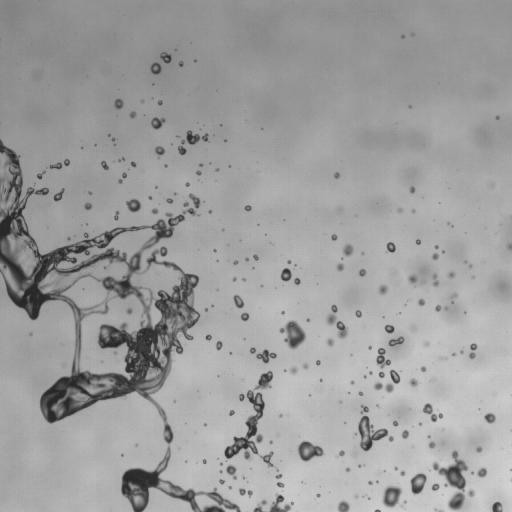droplet: (278, 320, 306, 349), (382, 485, 407, 509), (296, 440, 324, 461), (409, 472, 427, 495), (125, 198, 141, 212), (341, 243, 353, 260), (150, 117, 165, 129), (226, 463, 237, 479), (470, 467, 487, 477), (280, 267, 292, 281), (232, 294, 244, 308), (283, 365, 298, 375), (154, 146, 165, 159), (407, 274, 418, 287), (337, 500, 350, 511), (150, 62, 161, 74), (484, 412, 496, 423), (489, 501, 502, 511), (160, 52, 171, 63), (165, 145, 176, 156), (109, 164, 120, 175), (0, 200, 11, 211), (140, 200, 151, 211), (158, 202, 169, 213), (170, 204, 181, 215), (128, 211, 139, 222), (172, 223, 183, 234), (91, 227, 102, 238), (72, 232, 83, 243), (333, 239, 344, 250), (454, 264, 465, 275), (233, 265, 244, 276), (412, 287, 423, 298), (39, 301, 50, 312), (16, 307, 27, 318), (257, 362, 268, 373), (260, 387, 271, 398), (128, 390, 139, 401), (244, 404, 255, 415), (34, 411, 45, 422), (370, 419, 381, 430), (236, 425, 247, 436), (256, 442, 267, 453), (428, 450, 439, 461), (232, 452, 243, 463), (442, 456, 453, 467), (207, 459, 218, 470), (467, 460, 478, 471), (143, 461, 154, 472), (400, 482, 411, 493), (217, 485, 228, 496), (229, 492, 240, 503), (247, 496, 258, 507), (438, 497, 449, 508), (385, 242, 395, 253), (378, 284, 388, 295), (408, 378, 419, 388), (114, 98, 123, 109), (384, 324, 395, 333), (449, 291, 457, 303), (240, 312, 249, 321), (401, 429, 410, 438), (121, 104, 130, 113), (187, 173, 196, 182), (34, 180, 43, 189), (138, 196, 147, 205), (119, 204, 128, 213), (148, 215, 157, 224), (116, 218, 125, 227), (158, 237, 167, 246), (57, 238, 66, 247), (141, 249, 150, 258), (342, 255, 351, 264), (437, 273, 446, 282), (425, 300, 434, 309), (334, 311, 343, 320), (297, 319, 306, 328), (329, 325, 338, 334), (175, 332, 184, 341), (297, 341, 306, 350), (371, 363, 380, 372), (62, 368, 71, 377), (413, 370, 422, 379), (399, 374, 408, 383), (382, 375, 391, 384), (42, 380, 51, 389), (350, 384, 359, 393), (113, 395, 122, 404), (255, 419, 264, 428), (156, 428, 165, 437), (129, 460, 138, 469), (437, 474, 446, 483), (233, 479, 242, 488), (422, 482, 431, 491), (448, 485, 457, 494), (375, 490, 384, 499), (119, 495, 128, 504), (462, 495, 471, 504), (326, 337, 334, 347), (37, 170, 45, 179), (409, 324, 417, 333), (431, 482, 439, 491), (467, 488, 475, 497), (101, 160, 108, 170), (241, 505, 252, 511), (381, 505, 392, 511), (499, 505, 510, 511), (84, 202, 92, 210), (431, 252, 439, 260), (336, 263, 344, 271), (358, 268, 366, 276), (447, 270, 455, 278), (417, 298, 425, 306), (215, 341, 222, 350), (261, 504, 270, 511), (0, 151, 5, 162), (0, 163, 5, 174), (0, 283, 5, 294), (129, 111, 136, 118), (333, 172, 340, 179), (151, 207, 158, 214), (126, 307, 133, 314), (204, 334, 211, 341), (422, 340, 429, 347), (428, 441, 435, 448), (156, 57, 163, 64), (173, 139, 180, 146), (182, 141, 189, 148), (17, 156, 24, 163), (20, 185, 27, 192), (46, 191, 53, 198), (85, 195, 92, 202), (187, 200, 194, 207), (149, 201, 156, 208), (403, 206, 410, 213), (183, 212, 190, 219), (123, 221, 130, 228), (38, 247, 45, 254), (351, 248, 358, 255), (336, 249, 343, 256), (155, 254, 162, 261), (163, 254, 170, 261), (238, 258, 245, 265), (139, 259, 146, 266), (183, 266, 190, 273), (379, 278, 386, 285), (402, 278, 409, 285), (372, 285, 379, 292), (384, 290, 391, 297), (7, 300, 14, 307), (64, 305, 71, 312), (239, 306, 246, 313), (279, 320, 286, 327), (68, 323, 75, 330), (185, 327, 192, 334), (280, 331, 287, 338), (390, 331, 397, 338), (69, 332, 76, 339), (209, 338, 216, 345), (381, 341, 388, 348), (68, 343, 75, 350), (255, 346, 262, 353), (464, 346, 471, 353), (295, 361, 302, 368), (382, 365, 389, 372), (296, 366, 303, 373), (163, 377, 170, 384), (379, 387, 386, 394), (33, 397, 40, 404), (106, 397, 113, 404), (95, 399, 102, 406), (159, 401, 166, 408), (150, 406, 157, 413), (431, 407, 438, 414), (72, 411, 79, 418), (63, 415, 70, 422), (166, 418, 173, 425), (53, 419, 60, 426), (261, 436, 268, 443), (227, 438, 234, 445), (311, 439, 318, 446), (218, 452, 225, 459), (310, 455, 317, 462), (350, 464, 357, 471), (117, 469, 124, 476), (460, 469, 467, 476), (221, 471, 228, 478), (407, 471, 414, 478), (158, 472, 165, 479), (115, 479, 122, 486), (390, 480, 397, 487), (463, 483, 470, 490), (181, 484, 188, 491), (147, 486, 154, 493), (276, 487, 283, 494), (397, 494, 404, 501), (345, 497, 352, 504), (183, 500, 190, 507), (277, 501, 284, 508), (331, 233, 337, 241), (294, 277, 300, 285), (330, 506, 339, 511), (455, 506, 464, 511), (118, 156, 125, 162), (488, 181, 495, 187), (409, 186, 415, 193), (244, 205, 251, 211), (355, 310, 361, 317), (302, 362, 308, 369), (228, 409, 235, 415), (459, 346, 464, 354), (130, 161, 136, 167), (397, 207, 403, 213), (252, 254, 258, 260), (420, 366, 426, 372), (392, 420, 398, 426), (476, 446, 482, 452), (166, 198, 173, 203), (506, 243, 511, 250), (429, 377, 436, 382), (218, 479, 225, 484), (195, 170, 201, 175), (400, 470, 405, 476), (416, 238, 420, 245), (127, 507, 134, 511), (223, 507, 230, 511), (347, 507, 354, 511), (447, 507, 454, 511), (178, 61, 183, 66), (157, 100, 162, 105), (233, 260, 238, 265), (420, 279, 425, 284), (358, 391, 363, 396), (277, 412, 282, 417), (345, 467, 350, 472), (368, 480, 373, 485), (354, 494, 359, 499), (404, 32, 409, 37), (148, 59, 153, 64), (156, 72, 161, 77), (153, 73, 158, 78), (115, 93, 120, 98), (118, 94, 123, 99), (152, 99, 157, 104), (109, 100, 114, 105), (110, 104, 115, 109), (115, 108, 120, 113), (135, 111, 140, 116), (125, 114, 130, 119), (148, 114, 153, 119), (156, 114, 161, 119), (133, 115, 138, 120), (160, 122, 165, 127), (157, 126, 162, 131), (198, 131, 203, 136), (181, 134, 186, 139), (207, 135, 212, 140), (198, 138, 203, 143), (2, 141, 7, 146), (154, 141, 159, 146), (162, 144, 167, 149), (150, 148, 155, 153), (14, 150, 19, 155), (153, 152, 158, 157), (183, 152, 188, 157), (159, 153, 164, 158), (133, 158, 138, 163), (51, 159, 56, 164), (105, 160, 110, 165), (202, 160, 207, 165), (18, 161, 23, 166), (198, 166, 203, 171), (329, 170, 334, 175), (338, 170, 343, 175), (329, 174, 334, 179), (338, 174, 343, 179), (33, 185, 38, 190), (405, 185, 410, 190), (55, 187, 60, 192), (414, 187, 419, 192), (30, 192, 35, 197), (193, 192, 198, 197), (38, 193, 43, 198), (18, 194, 23, 199), (170, 194, 175, 199), (126, 195, 131, 200), (137, 197, 142, 202), (198, 202, 203, 207), (79, 203, 84, 208), (183, 205, 188, 210), (82, 208, 87, 213), (87, 208, 92, 213), (137, 208, 142, 213), (20, 209, 25, 214), (128, 210, 133, 215), (133, 210, 138, 215), (171, 212, 176, 217), (163, 216, 168, 221), (178, 220, 183, 225), (133, 221, 138, 226), (106, 226, 111, 231), (28, 230, 33, 235), (33, 236, 38, 241), (394, 245, 399, 250), (435, 248, 440, 253), (506, 248, 511, 253), (252, 249, 257, 254), (427, 252, 432, 257), (248, 255, 253, 260), (430, 258, 435, 263), (434, 258, 439, 263), (467, 258, 472, 263), (174, 260, 179, 265), (463, 263, 468, 268), (286, 264, 291, 269), (332, 264, 337, 269), (361, 264, 366, 269), (342, 265, 347, 270), (356, 265, 361, 270), (447, 266, 452, 271), (277, 268, 282, 273), (337, 270, 342, 275), (407, 270, 412, 275), (364, 271, 369, 276), (354, 272, 359, 277), (454, 272, 459, 277), (435, 275, 440, 280), (236, 276, 241, 281), (289, 276, 294, 281), (451, 276, 456, 281), (429, 278, 434, 283), (280, 279, 285, 284), (415, 279, 420, 284), (196, 281, 201, 286), (437, 282, 442, 287), (431, 285, 436, 290), (192, 286, 197, 291), (2, 289, 7, 294), (448, 289, 453, 294), (423, 297, 428, 302), (413, 298, 418, 303), (230, 301, 235, 306), (439, 302, 444, 307), (446, 302, 451, 307), (205, 303, 210, 308), (192, 304, 197, 309), (416, 304, 421, 309), (420, 304, 425, 309), (336, 305, 341, 310), (207, 306, 212, 311), (439, 307, 444, 312), (327, 308, 332, 313), (388, 320, 393, 325), (343, 321, 348, 326), (193, 322, 198, 327), (274, 328, 279, 333), (322, 341, 327, 346), (267, 348, 272, 353), (454, 348, 459, 353), (251, 352, 256, 357), (383, 354, 388, 359), (257, 358, 262, 363), (419, 361, 424, 366), (67, 362, 72, 367), (416, 363, 421, 368), (262, 368, 267, 373), (416, 368, 421, 373), (363, 369, 368, 374), (285, 370, 290, 375), (255, 374, 260, 379), (268, 379, 273, 384), (398, 379, 403, 384), (406, 383, 411, 388), (416, 383, 421, 388), (256, 387, 261, 392), (252, 389, 257, 394), (387, 391, 392, 396), (149, 392, 154, 397), (234, 394, 239, 399), (261, 395, 266, 400), (243, 396, 248, 401), (427, 399, 432, 404), (248, 402, 253, 407), (419, 403, 424, 408), (81, 407, 86, 412), (163, 407, 168, 412), (261, 408, 266, 413), (483, 409, 488, 414), (164, 410, 169, 415), (251, 410, 256, 415), (363, 411, 368, 416), (357, 413, 362, 418), (425, 413, 430, 418), (494, 414, 499, 419), (242, 416, 247, 421), (481, 418, 486, 423), (368, 419, 373, 424), (429, 420, 434, 425), (490, 421, 495, 426), (159, 425, 164, 430), (170, 426, 175, 431), (353, 426, 358, 431), (255, 429, 260, 434), (386, 431, 391, 436), (172, 432, 177, 437), (355, 433, 360, 438), (407, 433, 412, 438), (383, 435, 388, 440), (171, 436, 176, 441), (303, 436, 308, 441), (429, 436, 434, 441), (402, 437, 407, 442), (425, 438, 430, 443), (296, 439, 301, 444), (162, 440, 167, 445), (169, 440, 174, 445), (254, 442, 259, 447), (474, 442, 479, 447), (433, 444, 438, 449), (220, 446, 225, 451), (425, 446, 430, 451), (471, 446, 476, 451), (239, 447, 244, 452), (430, 447, 435, 452), (334, 449, 339, 454), (219, 450, 224, 455), (479, 450, 484, 455), (343, 451, 348, 456), (475, 451, 480, 456), (295, 454, 300, 459), (456, 454, 461, 459), (158, 455, 163, 460), (269, 457, 274, 462), (243, 458, 248, 463), (167, 459, 172, 464), (464, 460, 469, 465), (262, 461, 267, 466), (481, 463, 486, 468), (428, 464, 433, 469), (221, 465, 226, 470), (397, 466, 402, 471), (417, 468, 422, 473), (473, 468, 478, 473), (395, 469, 400, 474), (233, 470, 238, 475), (423, 470, 428, 475), (485, 470, 490, 475), (479, 476, 484, 481), (277, 477, 282, 482), (172, 480, 177, 485), (223, 481, 228, 486), (193, 487, 198, 492), (208, 487, 213, 492), (433, 489, 438, 494), (473, 489, 478, 494), (357, 490, 362, 495), (415, 492, 420, 497), (167, 495, 172, 500), (271, 496, 276, 501), (489, 499, 494, 504), (251, 503, 256, 508), (238, 504, 243, 509), (122, 172, 126, 178), (0, 214, 3, 221), (0, 261, 3, 268), (400, 34, 405, 38), (198, 163, 203, 167), (118, 178, 122, 183), (185, 182, 190, 186), (148, 195, 152, 200), (411, 208, 415, 213), (67, 236, 71, 241), (244, 257, 249, 261), (468, 263, 472, 268), (232, 276, 236, 281), (241, 277, 246, 281), (281, 310, 285, 315), (368, 345, 372, 350), (451, 352, 456, 356), (316, 360, 320, 365), (350, 380, 354, 385), (316, 493, 321, 497), (411, 32, 415, 36), (140, 99, 144, 103), (495, 115, 499, 119), (88, 191, 92, 195), (208, 209, 212, 213), (434, 245, 438, 249), (463, 260, 467, 264), (293, 264, 297, 268), (471, 275, 475, 279), (306, 318, 310, 322), (376, 404, 380, 408), (418, 422, 422, 426), (269, 440, 273, 444), (134, 443, 138, 447), (202, 459, 206, 463), (394, 466, 398, 470), (228, 485, 232, 489), (214, 168, 219, 171), (173, 192, 178, 195), (286, 260, 291, 263), (204, 307, 207, 312), (319, 378, 322, 383), (508, 238, 511, 243), (142, 508, 147, 511), (188, 508, 193, 511), (487, 508, 492, 511), (193, 59, 197, 62), (408, 104, 411, 108), (107, 133, 110, 137), (213, 248, 216, 252), (361, 251, 364, 255), (441, 250, 445, 253), (403, 303, 407, 306), (349, 353, 353, 356), (369, 371, 372, 375), (363, 374, 366, 378), (203, 423, 207, 426), (219, 462, 223, 465), (219, 469, 222, 473), (396, 312, 401, 314), (0, 187, 2, 192), (224, 139, 227, 142), (80, 146, 83, 149), (164, 164, 167, 167), (228, 164, 231, 167), (221, 228, 224, 231), (216, 259, 219, 262), (260, 284, 263, 287), (211, 304, 214, 307), (29, 332, 32, 335), (229, 351, 232, 354), (100, 360, 103, 363), (241, 378, 244, 381), (347, 391, 350, 394), (339, 400, 342, 403), (441, 428, 444, 431), (427, 435, 430, 438), (184, 460, 187, 463), (375, 480, 378, 483), (398, 33, 401, 36), (402, 37, 405, 40), (166, 51, 169, 54), (170, 55, 173, 58), (192, 56, 195, 59), (192, 61, 195, 64), (148, 63, 151, 66), (182, 63, 185, 66), (176, 64, 179, 67), (148, 82, 151, 85), (161, 100, 164, 103), (155, 103, 158, 106), (159, 104, 162, 107), (411, 104, 414, 107), (406, 107, 409, 110), (495, 112, 498, 115), (492, 115, 495, 118), (498, 116, 501, 119), (164, 118, 167, 121), (495, 119, 498, 122), (219, 120, 222, 123), (222, 123, 225, 126), (260, 124, 263, 127), (217, 125, 220, 128), (104, 133, 107, 136), (108, 136, 111, 139), (224, 136, 227, 139), (220, 138, 223, 141), (93, 140, 96, 143), (113, 140, 116, 143), (204, 140, 207, 143), (223, 141, 226, 144), (178, 142, 181, 145), (79, 143, 82, 146), (96, 143, 99, 146), (82, 144, 85, 147), (77, 146, 80, 149), (82, 147, 85, 150), (175, 149, 178, 152), (118, 155, 121, 158), (123, 155, 126, 158), (67, 156, 70, 159), (99, 158, 102, 161), (114, 158, 117, 161), (131, 158, 134, 161), (120, 159, 123, 162), (199, 160, 202, 163), (165, 161, 168, 164), (68, 162, 71, 165), (61, 163, 64, 166), (135, 163, 138, 166), (225, 163, 228, 166), (46, 164, 49, 167), (167, 164, 170, 167), (215, 164, 218, 167), (130, 165, 133, 168), (161, 165, 164, 168), (100, 166, 103, 169), (52, 167, 55, 170), (164, 167, 167, 170), (227, 167, 230, 170), (38, 170, 41, 173), (215, 170, 218, 173), (41, 174, 44, 177), (126, 174, 129, 177), (196, 174, 199, 177), (35, 177, 38, 180), (121, 177, 124, 180), (115, 179, 118, 182), (184, 179, 187, 182), (188, 180, 191, 183), (155, 182, 158, 185), (182, 183, 185, 186), (151, 185, 154, 188), (187, 185, 190, 188), (88, 188, 91, 191), (154, 188, 157, 191), (174, 189, 177, 192), (409, 192, 412, 195), (86, 193, 89, 196), (151, 195, 154, 198), (26, 197, 29, 200), (57, 199, 60, 202), (199, 199, 202, 202), (172, 200, 175, 203), (25, 202, 28, 205), (166, 202, 169, 205), (244, 202, 247, 205), (248, 202, 251, 205), (250, 205, 253, 208), (414, 207, 417, 210), (408, 208, 411, 211), (243, 209, 246, 212), (247, 210, 250, 213), (210, 211, 213, 214), (112, 212, 115, 215), (117, 213, 120, 216), (111, 217, 114, 220), (256, 220, 259, 223), (87, 221, 90, 224), (450, 221, 453, 224), (82, 223, 85, 226), (253, 223, 256, 226), (258, 224, 261, 227), (447, 224, 450, 227), (453, 224, 456, 227), (85, 229, 88, 232), (261, 233, 264, 236), (266, 233, 269, 236), (87, 236, 90, 239), (328, 236, 331, 239), (336, 236, 339, 239), (414, 236, 417, 239), (418, 236, 421, 239), (334, 239, 337, 242), (390, 239, 393, 242), (385, 240, 388, 243), (412, 240, 415, 243), (420, 240, 423, 243), (434, 241, 437, 244), (393, 242, 396, 245), (418, 243, 421, 246), (215, 247, 218, 250), (384, 247, 387, 250), (444, 250, 447, 253), (211, 251, 214, 254), (388, 251, 391, 254), (257, 254, 260, 257), (285, 257, 288, 260), (218, 259, 221, 262), (230, 259, 233, 262), (256, 259, 259, 262), (460, 259, 463, 262), (339, 260, 342, 263), (215, 261, 218, 264), (235, 263, 238, 266), (248, 265, 251, 268), (251, 268, 254, 271), (230, 275, 233, 278), (244, 275, 247, 278), (358, 275, 361, 278), (361, 275, 364, 278), (298, 276, 301, 279), (245, 279, 248, 282), (299, 279, 302, 282), (260, 281, 263, 284), (298, 282, 301, 285), (293, 283, 296, 286), (263, 284, 266, 287), (260, 286, 263, 289), (448, 298, 451, 301), (242, 299, 245, 302), (403, 300, 406, 303), (211, 301, 214, 304), (331, 301, 334, 304), (406, 301, 409, 304), (450, 303, 453, 306), (432, 305, 435, 308), (397, 308, 400, 311), (464, 308, 467, 311), (278, 309, 281, 312), (284, 310, 287, 313), (434, 310, 437, 313), (460, 310, 463, 313), (360, 311, 363, 314), (381, 312, 384, 315), (400, 312, 403, 315), (465, 312, 468, 315), (248, 313, 251, 316), (279, 313, 282, 316), (397, 313, 400, 316), (353, 314, 356, 317), (247, 317, 250, 320), (309, 318, 312, 321), (240, 319, 243, 322), (382, 323, 385, 326), (393, 327, 396, 330), (383, 330, 386, 333), (206, 331, 209, 334), (403, 336, 406, 339), (205, 339, 208, 342), (221, 341, 224, 344), (468, 341, 471, 344), (475, 342, 478, 345), (395, 343, 398, 346), (251, 344, 254, 347), (365, 344, 368, 347), (220, 346, 223, 349), (247, 346, 250, 349), (228, 348, 231, 351), (231, 350, 234, 353), (450, 350, 453, 353), (247, 351, 250, 354), (226, 352, 229, 355), (346, 353, 349, 356), (229, 354, 232, 357), (451, 355, 454, 358), (314, 357, 317, 360), (472, 357, 475, 360), (319, 359, 322, 362), (373, 360, 376, 363), (312, 361, 315, 364), (317, 364, 320, 367), (425, 367, 428, 370), (280, 368, 283, 371), (396, 370, 399, 373), (422, 371, 425, 374), (360, 375, 363, 378), (351, 377, 354, 380), (322, 378, 325, 381), (316, 379, 319, 382), (347, 380, 350, 383), (347, 388, 350, 391), (360, 388, 363, 391), (309, 391, 312, 394), (344, 391, 347, 394), (355, 391, 358, 394), (348, 393, 351, 396), (357, 394, 360, 397), (307, 396, 310, 399), (236, 398, 239, 401), (175, 400, 178, 403), (375, 400, 378, 403), (378, 403, 381, 406), (477, 404, 480, 407), (230, 406, 233, 409), (233, 408, 236, 411), (226, 410, 229, 413), (276, 411, 279, 414), (281, 411, 284, 414), (231, 413, 234, 416), (442, 413, 445, 416), (282, 414, 285, 417), (279, 417, 282, 420), (344, 418, 347, 421), (396, 419, 399, 422), (204, 420, 207, 423), (340, 421, 343, 424), (200, 422, 203, 425), (343, 423, 346, 426), (415, 423, 418, 426), (406, 428, 409, 431), (425, 432, 428, 435), (272, 439, 275, 442), (342, 448, 345, 451), (360, 448, 363, 451), (272, 449, 275, 452), (122, 452, 125, 455), (117, 453, 120, 456), (338, 455, 341, 458), (182, 457, 185, 460), (260, 458, 263, 461), (186, 459, 189, 462), (199, 459, 202, 462), (205, 459, 208, 462), (359, 461, 362, 464), (183, 462, 186, 465), (202, 463, 205, 466), (345, 464, 348, 467), (360, 465, 363, 468), (355, 466, 358, 469), (391, 466, 394, 469), (380, 467, 383, 470), (216, 470, 219, 473), (347, 470, 350, 473), (276, 471, 279, 474), (381, 471, 384, 474), (243, 473, 246, 476), (243, 478, 246, 481), (302, 479, 305, 482), (297, 480, 300, 483), (372, 480, 375, 483), (300, 482, 303, 485), (365, 482, 368, 485), (283, 484, 286, 487), (368, 484, 371, 487), (236, 490, 239, 493), (316, 490, 319, 493), (367, 493, 370, 496), (250, 494, 253, 497), (358, 495, 361, 498), (364, 495, 367, 498), (315, 496, 318, 499), (293, 501, 296, 504), (403, 503, 406, 506), (436, 506, 439, 509), (176, 135, 180, 137), (174, 48, 177, 50), (219, 124, 222, 126), (155, 185, 157, 188), (85, 223, 88, 225), (257, 223, 259, 226), (252, 266, 254, 269), (216, 288, 218, 291), (464, 311, 466, 314), (243, 337, 245, 340), (399, 370, 402, 372), (217, 374, 219, 377), (308, 394, 311, 396), (286, 414, 289, 416), (121, 453, 123, 456), (249, 467, 252, 469), (509, 468, 511, 471), (509, 465, 511, 468), (509, 470, 511, 473), (431, 509, 434, 511), (152, 83, 154, 85), (151, 97, 153, 99), (199, 128, 201, 130), (170, 143, 172, 145), (94, 144, 96, 146), (209, 162, 211, 164), (82, 288, 84, 290), (382, 316, 384, 318), (478, 408, 480, 410), (344, 421, 346, 423), (217, 457, 219, 459), (0, 273, 1, 276), (438, 202, 440, 203), (265, 233, 266, 235), (316, 283, 318, 284), (366, 366, 367, 368), (510, 394, 511, 396), (510, 429, 511, 431), (465, 232, 466, 233), (437, 409, 438, 410)
ligament: (224, 370, 278, 471), (325, 304, 348, 338), (253, 492, 294, 511), (419, 403, 443, 422), (376, 348, 391, 378), (249, 347, 277, 363), (46, 158, 70, 169), (388, 336, 404, 346), (238, 487, 252, 498), (53, 188, 64, 201), (469, 342, 477, 359), (275, 473, 284, 487), (432, 273, 439, 287), (435, 304, 448, 311), (336, 450, 345, 457), (375, 469, 385, 475), (241, 474, 248, 482), (114, 210, 119, 220), (362, 494, 370, 500), (111, 137, 116, 146), (446, 221, 453, 227), (434, 508, 445, 511), (439, 356, 447, 360), (357, 464, 365, 468), (374, 509, 382, 511), (173, 399, 176, 403), (301, 481, 305, 484), (510, 478, 511, 482), (260, 128, 263, 129)
